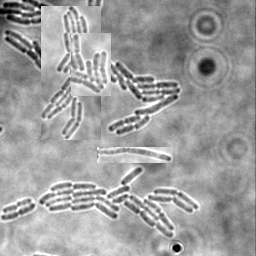Dividing: (97, 147, 173, 163), (1, 204, 37, 222), (3, 199, 33, 215)
Microcolony: (40, 167, 199, 238), (41, 6, 101, 140), (102, 59, 181, 136), (71, 33, 111, 96), (5, 30, 41, 72), (1, 1, 56, 26)
